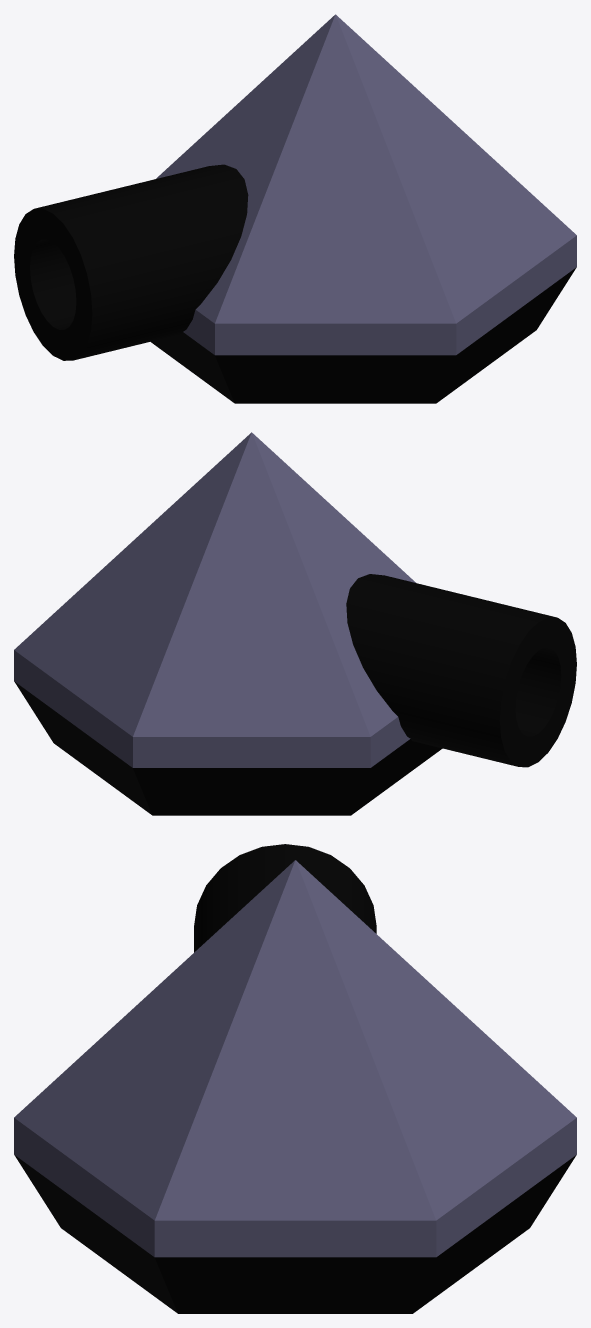
The model's file is TowerTop.fbx.
3 renders of one model, top to bottom at view 1: azimuth 30°, elevation 25°; view 2: azimuth 150°, elevation 25°; view 3: azimuth 270°, elevation 25°, orthographic. The views are drawn at different scales.
Visible parts, largest first — view 1: mergedBlocks; view 2: mergedBlocks; view 3: mergedBlocks.
Part boxes in pixels (bbox=[...]): mergedBlocks: bbox=[14, 14, 576, 403]; mergedBlocks: bbox=[14, 432, 576, 815]; mergedBlocks: bbox=[14, 844, 576, 1313].
Size of the model in its own units: 7.75 by 5 by 6.93.
